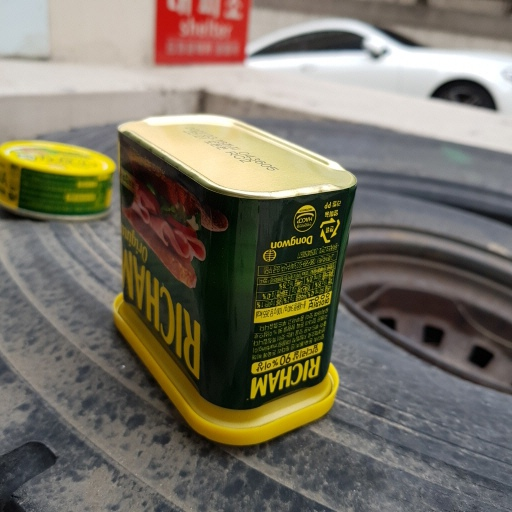Metal_2: (116, 113, 357, 450)
